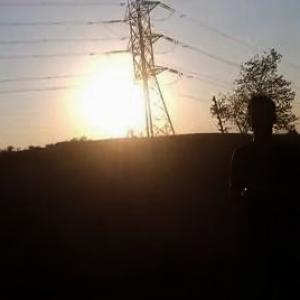follow: (221, 91, 299, 299)
